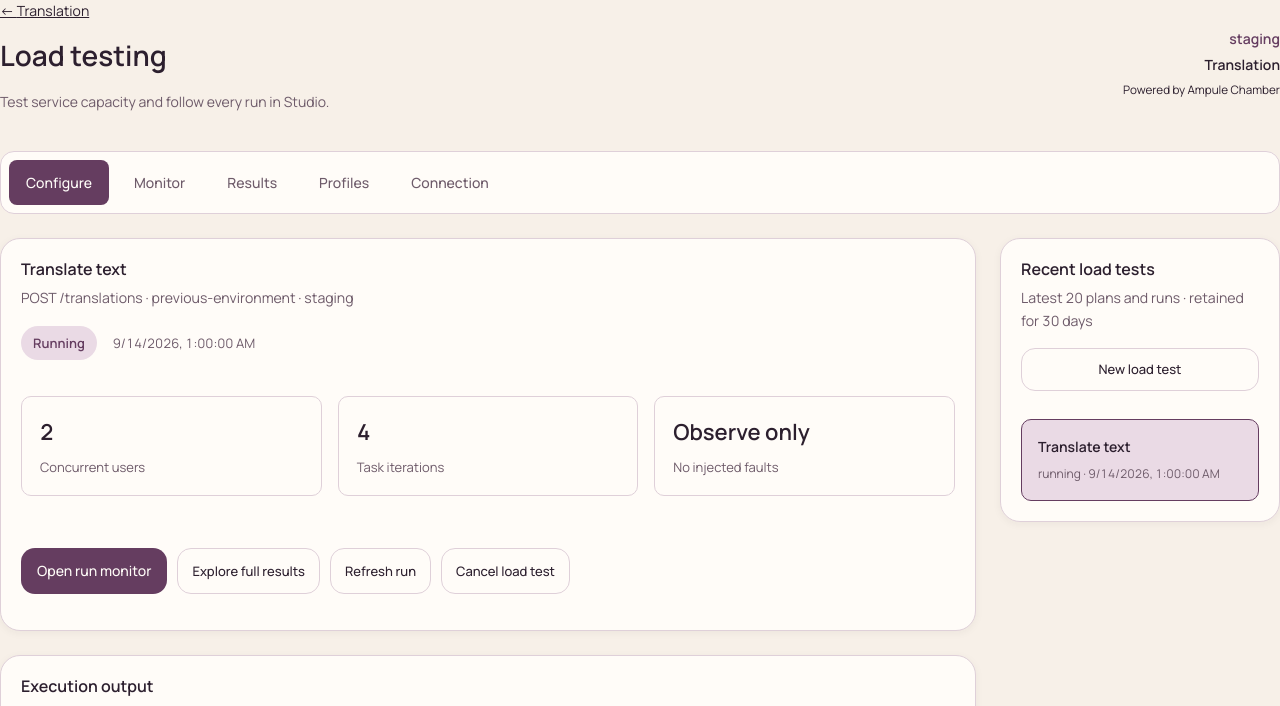
Scenario: keeps cancellation available across an environment edit without querying new-environment telemetry
The width and height of the screenshot is (1280, 706).
Click the button "Cancel load test".
click(505, 571)  # box [441,548,570,594]
(page scrolled)
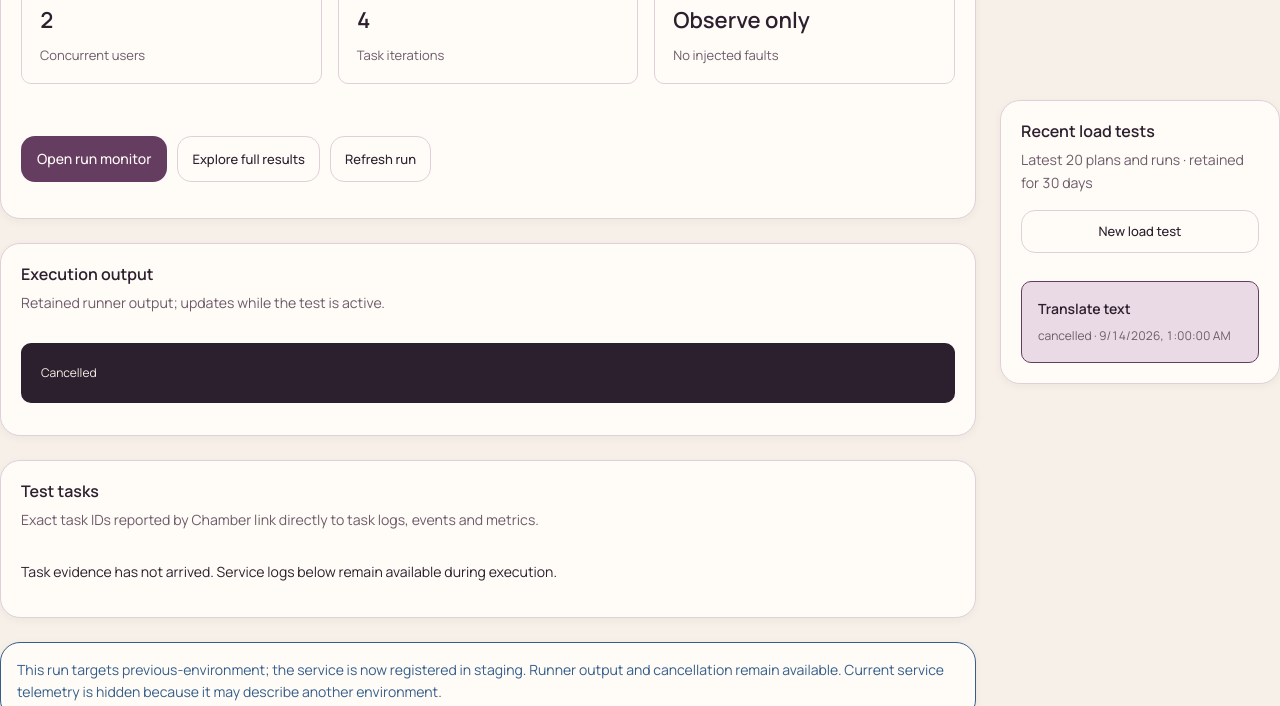
Expected: the text "Cancelled" is shown, [21,342,955,403]
